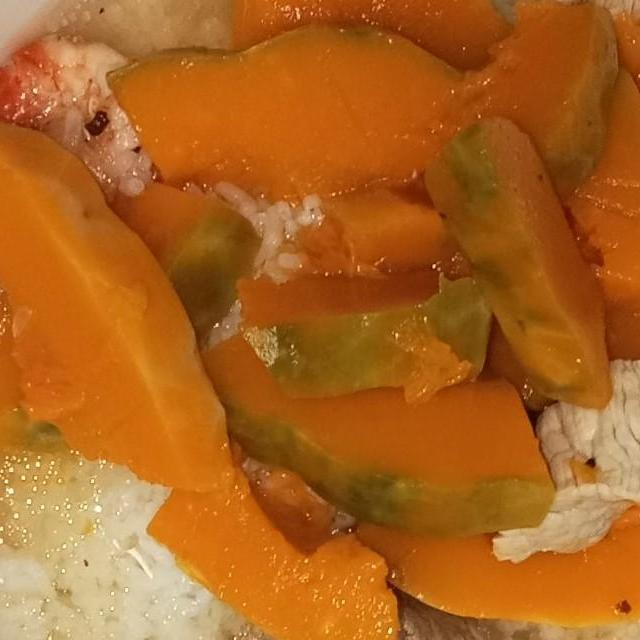ca: (0, 431, 250, 640)
thit heo: (487, 349, 640, 577), (188, 596, 526, 640)
tom: (0, 24, 171, 217)
